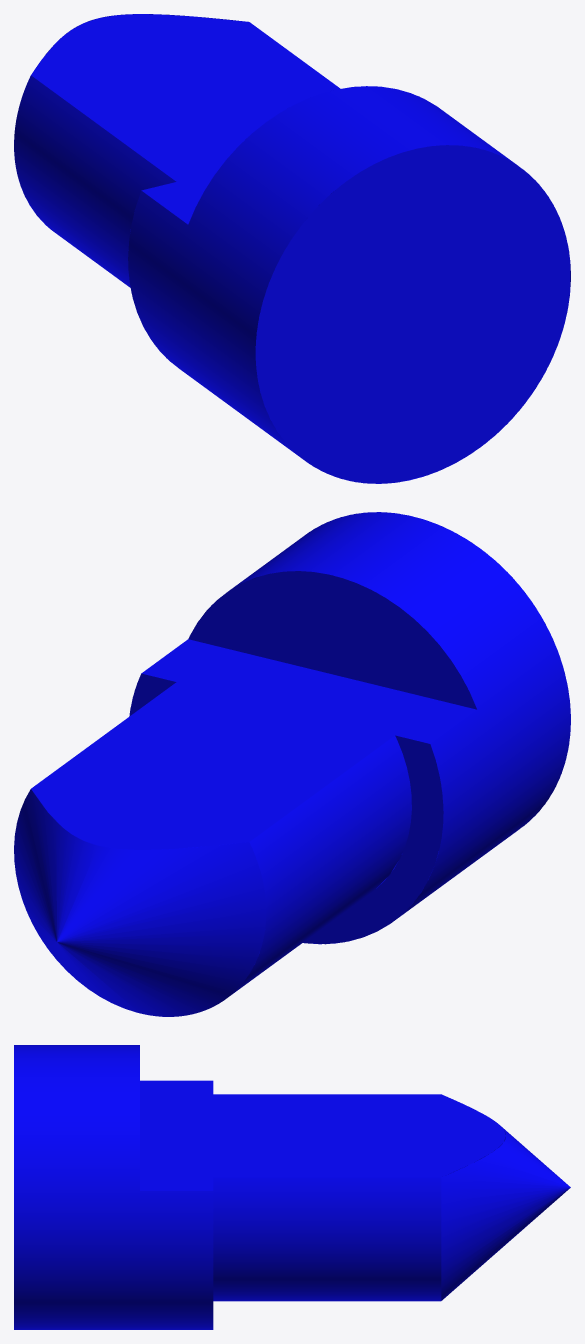
The picture shows the model from 3 angles, top to bottom: view 1: azimuth 30°, elevation 25°; view 2: azimuth 150°, elevation 25°; view 3: azimuth 270°, elevation 25°; orthographic projection. The views are drawn at different scales.
Parts seen in each view (by area): view 1: TRM_SRF (×5); view 2: TRM_SRF (×8); view 3: TRM_SRF (×5).
Boxes of the visible parts, x1,y1,x2,y2 form: TRM_SRF (×5): (14, 14, 570, 483); TRM_SRF (×8): (14, 512, 570, 1016); TRM_SRF (×5): (14, 1045, 570, 1329).
Size of the model in its own units: 39.37 by 39.37 by 77.
